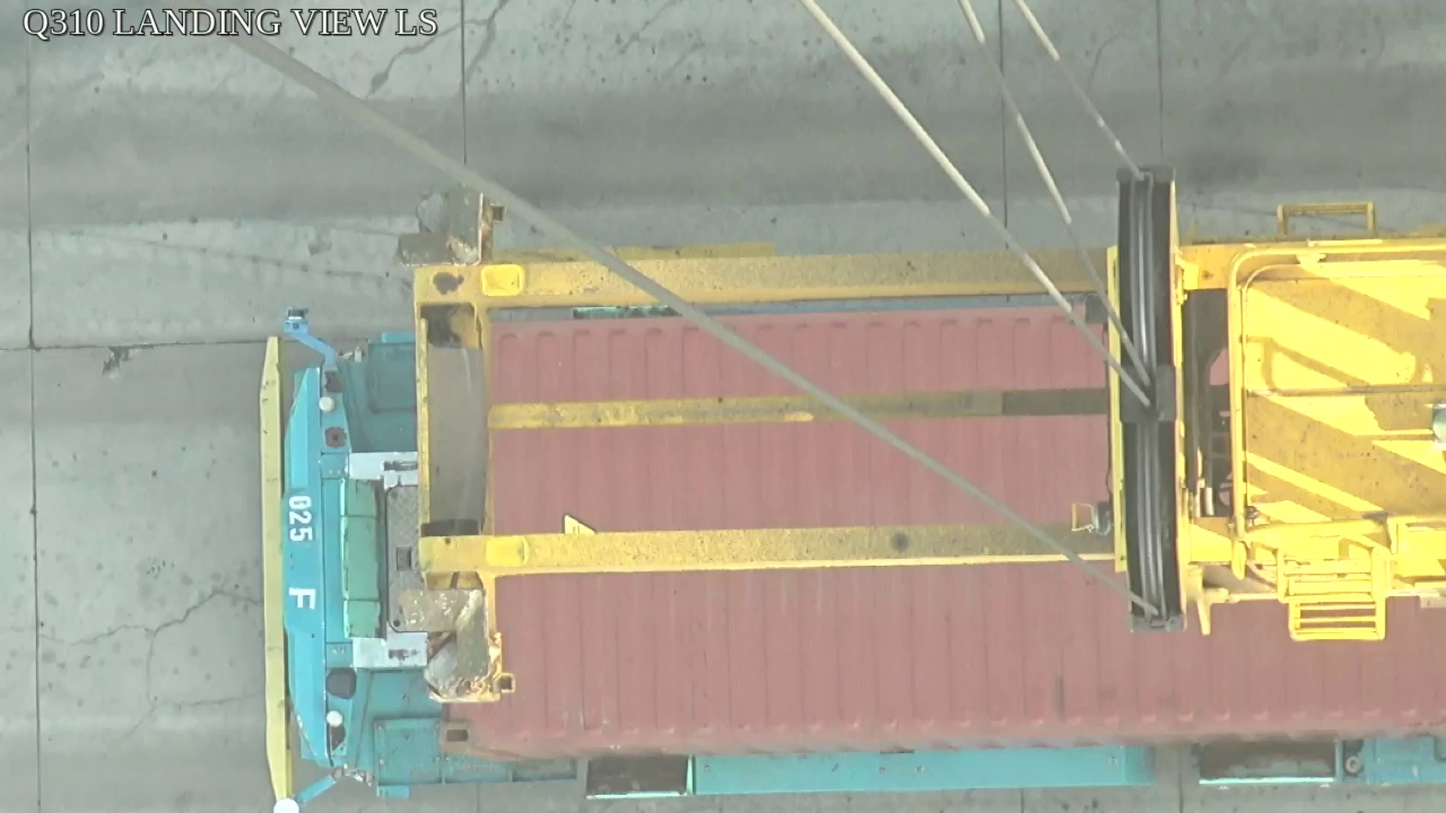aa: (1112, 166, 1190, 635)
